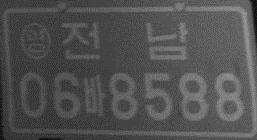0: (17, 70, 47, 119)
5: (142, 71, 174, 121)
6: (50, 70, 81, 120)
8: (177, 71, 209, 122), (214, 71, 244, 123), (107, 71, 137, 121)
바: (82, 74, 106, 116)
영: (18, 21, 51, 60)
전남_D: (60, 21, 189, 61)
